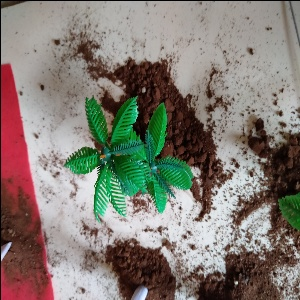plant: (62, 91, 204, 214)
